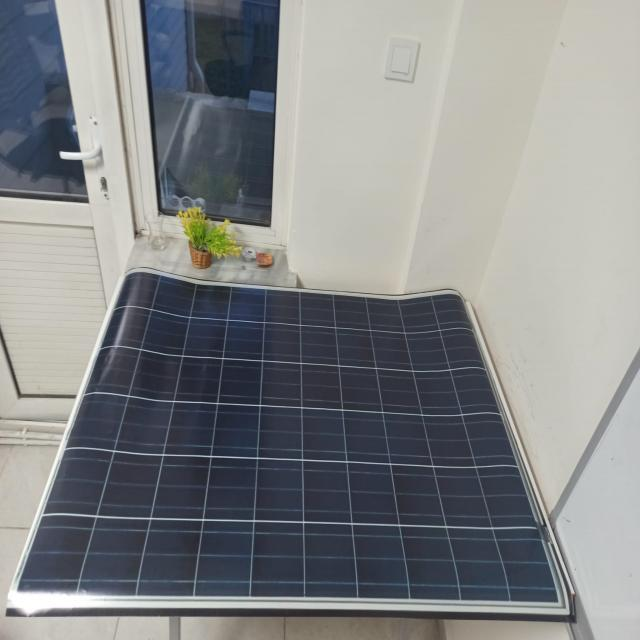no faulty: (6, 266, 578, 620)
